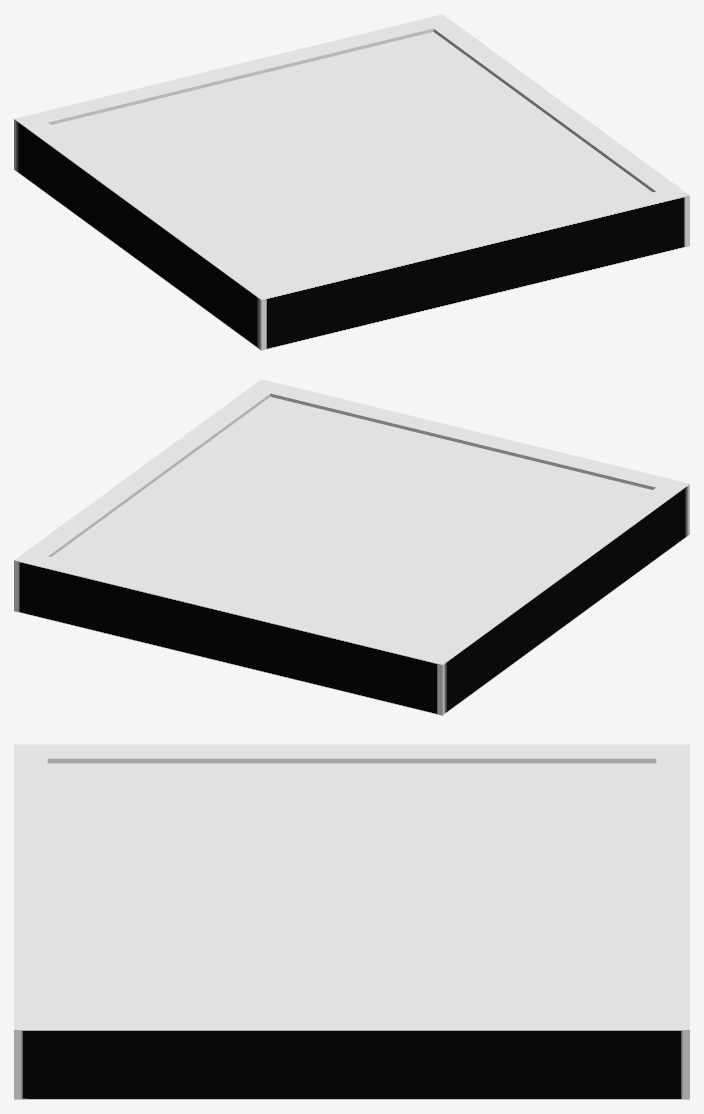
Rendered from elevator.fbx.
3 renders of one model, top to bottom at view 1: azimuth 30°, elevation 25°; view 2: azimuth 150°, elevation 25°; view 3: azimuth 270°, elevation 25°, orthographic. The views are drawn at different scales.
Parts seen in each view (by area): view 1: Box001; view 2: Box001; view 3: Box001.
Boxes of the visible parts, x1,y1,x2,y2 form: Box001: [14, 14, 689, 350]; Box001: [14, 379, 689, 715]; Box001: [14, 744, 689, 1099].
Bounding box in the file's own units: 20 × 2.27 × 20.
Materials: 2 (2 with a texture image).
